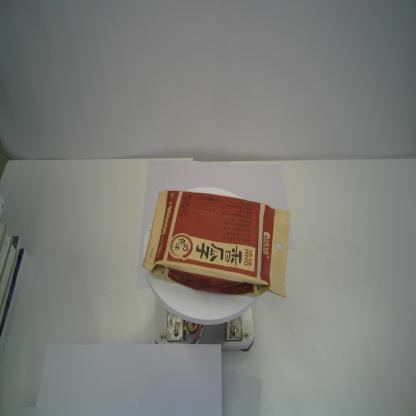Dried Food: (141, 188, 291, 299)
